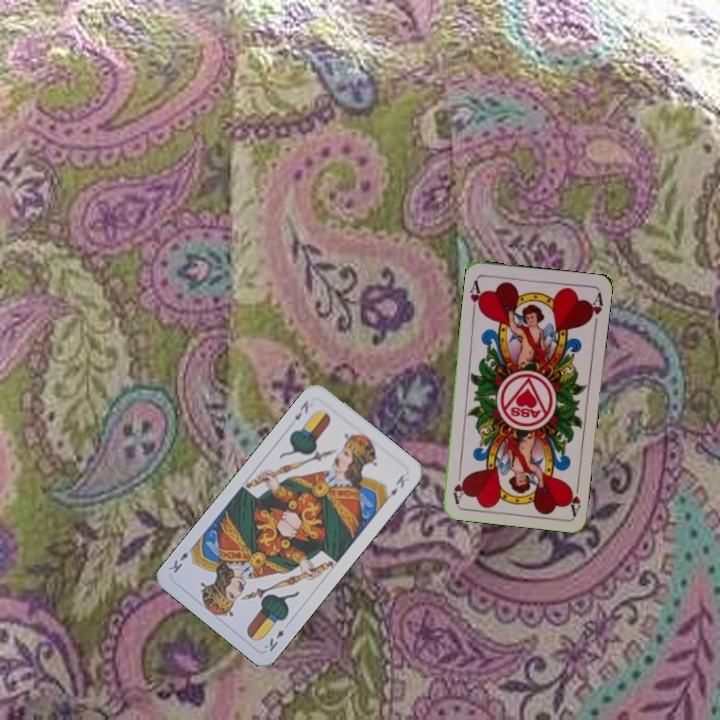EK: (260, 625, 287, 655), (290, 396, 311, 423)
HA: (466, 276, 486, 316), (564, 476, 583, 517)
